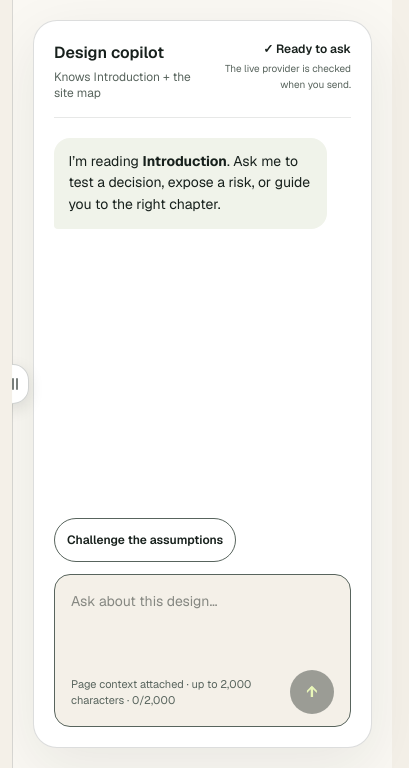
Test: ChatPanel service states › shows provider failures as temporarily unavailable and offers a manual recheck
Type "Review this" into the text box named "Ask about Introduction" at (202,623), box [63, 583, 342, 663]
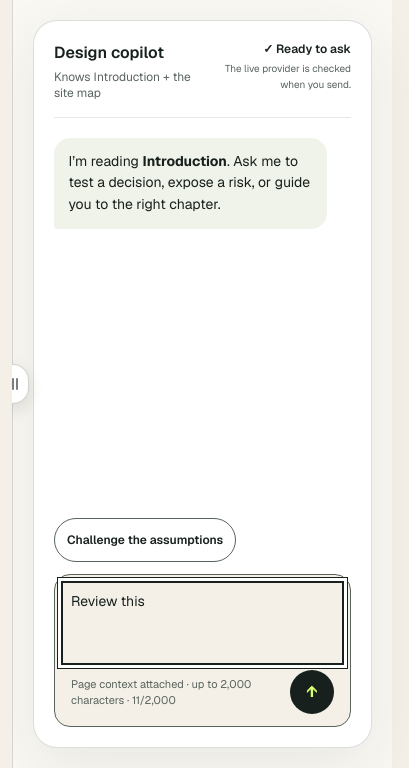
Click the button named "Send question" at (312,692), box [290, 670, 334, 714]
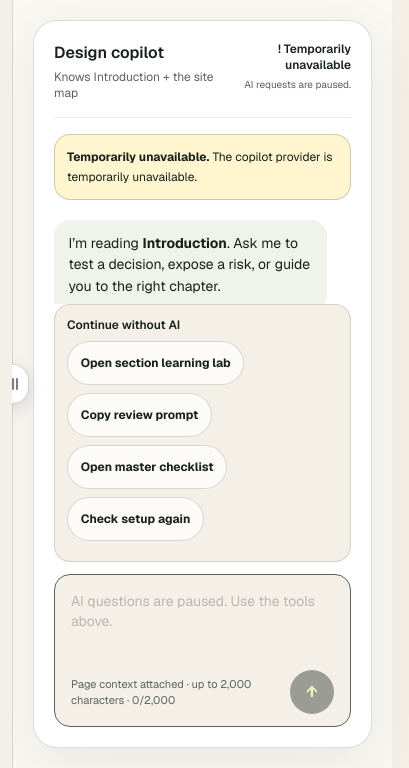
Now the text "Temporarily unavailable" is shown, box [284, 41, 351, 73]
Now the button "Check setup again" is shown, box [67, 497, 204, 541]
